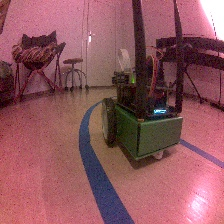rob: (100, 56, 183, 162)
